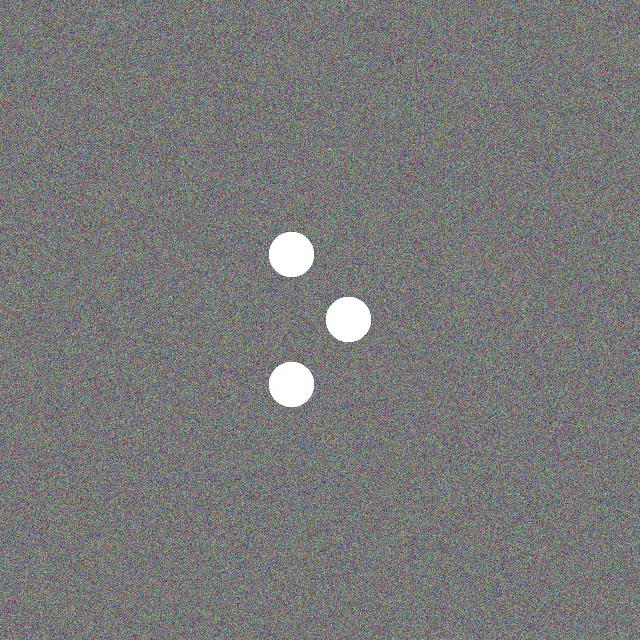O: (268, 230, 372, 412)
